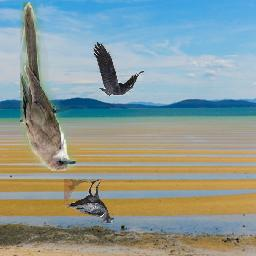Crow: (94, 42, 145, 96), (64, 180, 114, 225)
Cuckoo: (21, 3, 78, 172)
